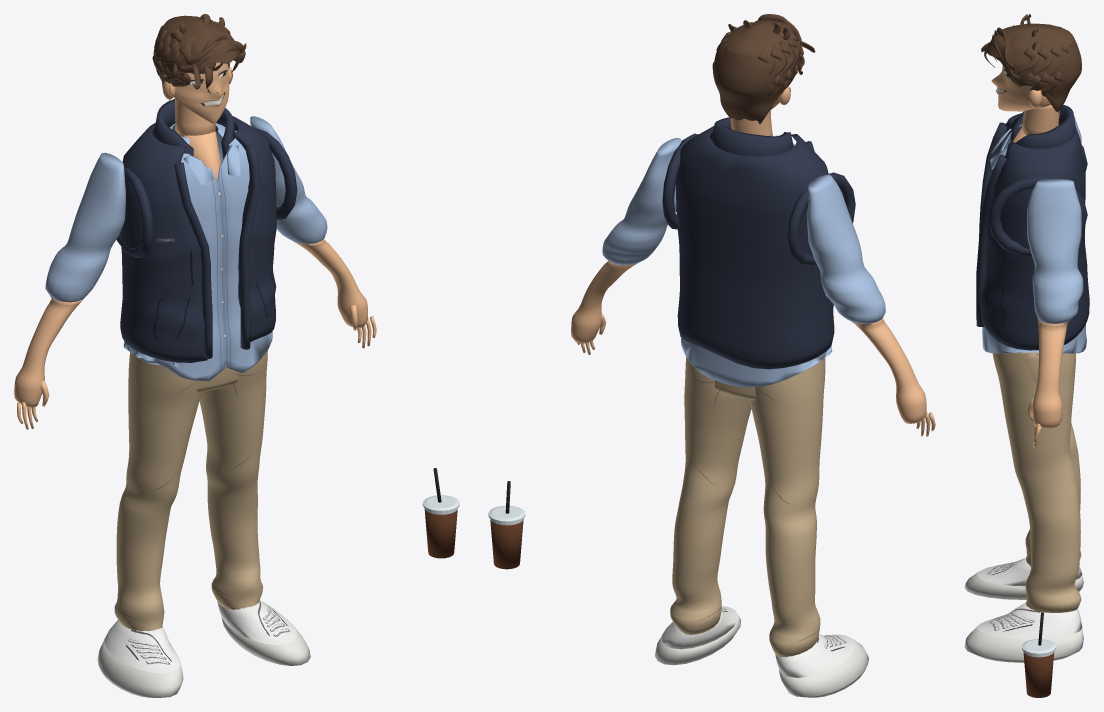
Rendered from techbro-apose.glb.
3 views of the same model, side by side, from view 1: azimuth 30°, elevation 25°; view 2: azimuth 150°, elevation 25°; view 3: azimuth 270°, elevation 25° (orthographic). The views are drawn at different scales.
Visible parts, largest first — view 1: torso, legs, arm_L, head, arm_R, cup; view 2: torso, legs, arm_L, head, arm_R, cup; view 3: legs, torso, arm_R, head, cup.
Part boxes in pixels (bbox=[...]): torso: bbox=[116, 99, 297, 381]; legs: bbox=[97, 350, 310, 697]; arm_L: bbox=[14, 152, 125, 429]; head: bbox=[152, 14, 246, 136]; arm_R: bbox=[250, 116, 376, 348]; cup: bbox=[422, 468, 459, 558]; torso: bbox=[662, 117, 855, 387]; legs: bbox=[655, 357, 868, 697]; arm_L: bbox=[807, 174, 935, 436]; head: bbox=[712, 14, 815, 136]; arm_R: bbox=[571, 138, 681, 354]; cup: bbox=[488, 481, 525, 569]; legs: bbox=[964, 352, 1083, 662]; torso: bbox=[976, 105, 1089, 353]; arm_R: bbox=[1027, 179, 1083, 447]; head: bbox=[981, 14, 1081, 135]; cup: bbox=[1022, 612, 1055, 697].
Size of the model in its own units: 1.29 by 1.8 by 0.3405.
Materials: 15 (6 with a texture image).
